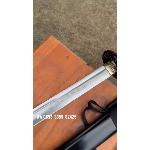Pedang: (33, 44, 117, 128)
